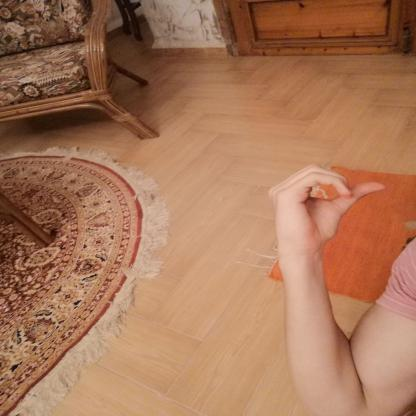WAW: (255, 155, 396, 262)
